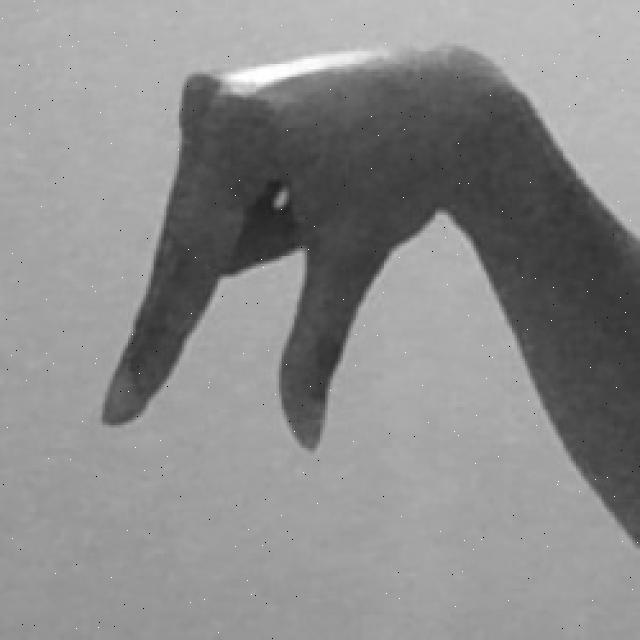Q: (91, 33, 640, 556)
